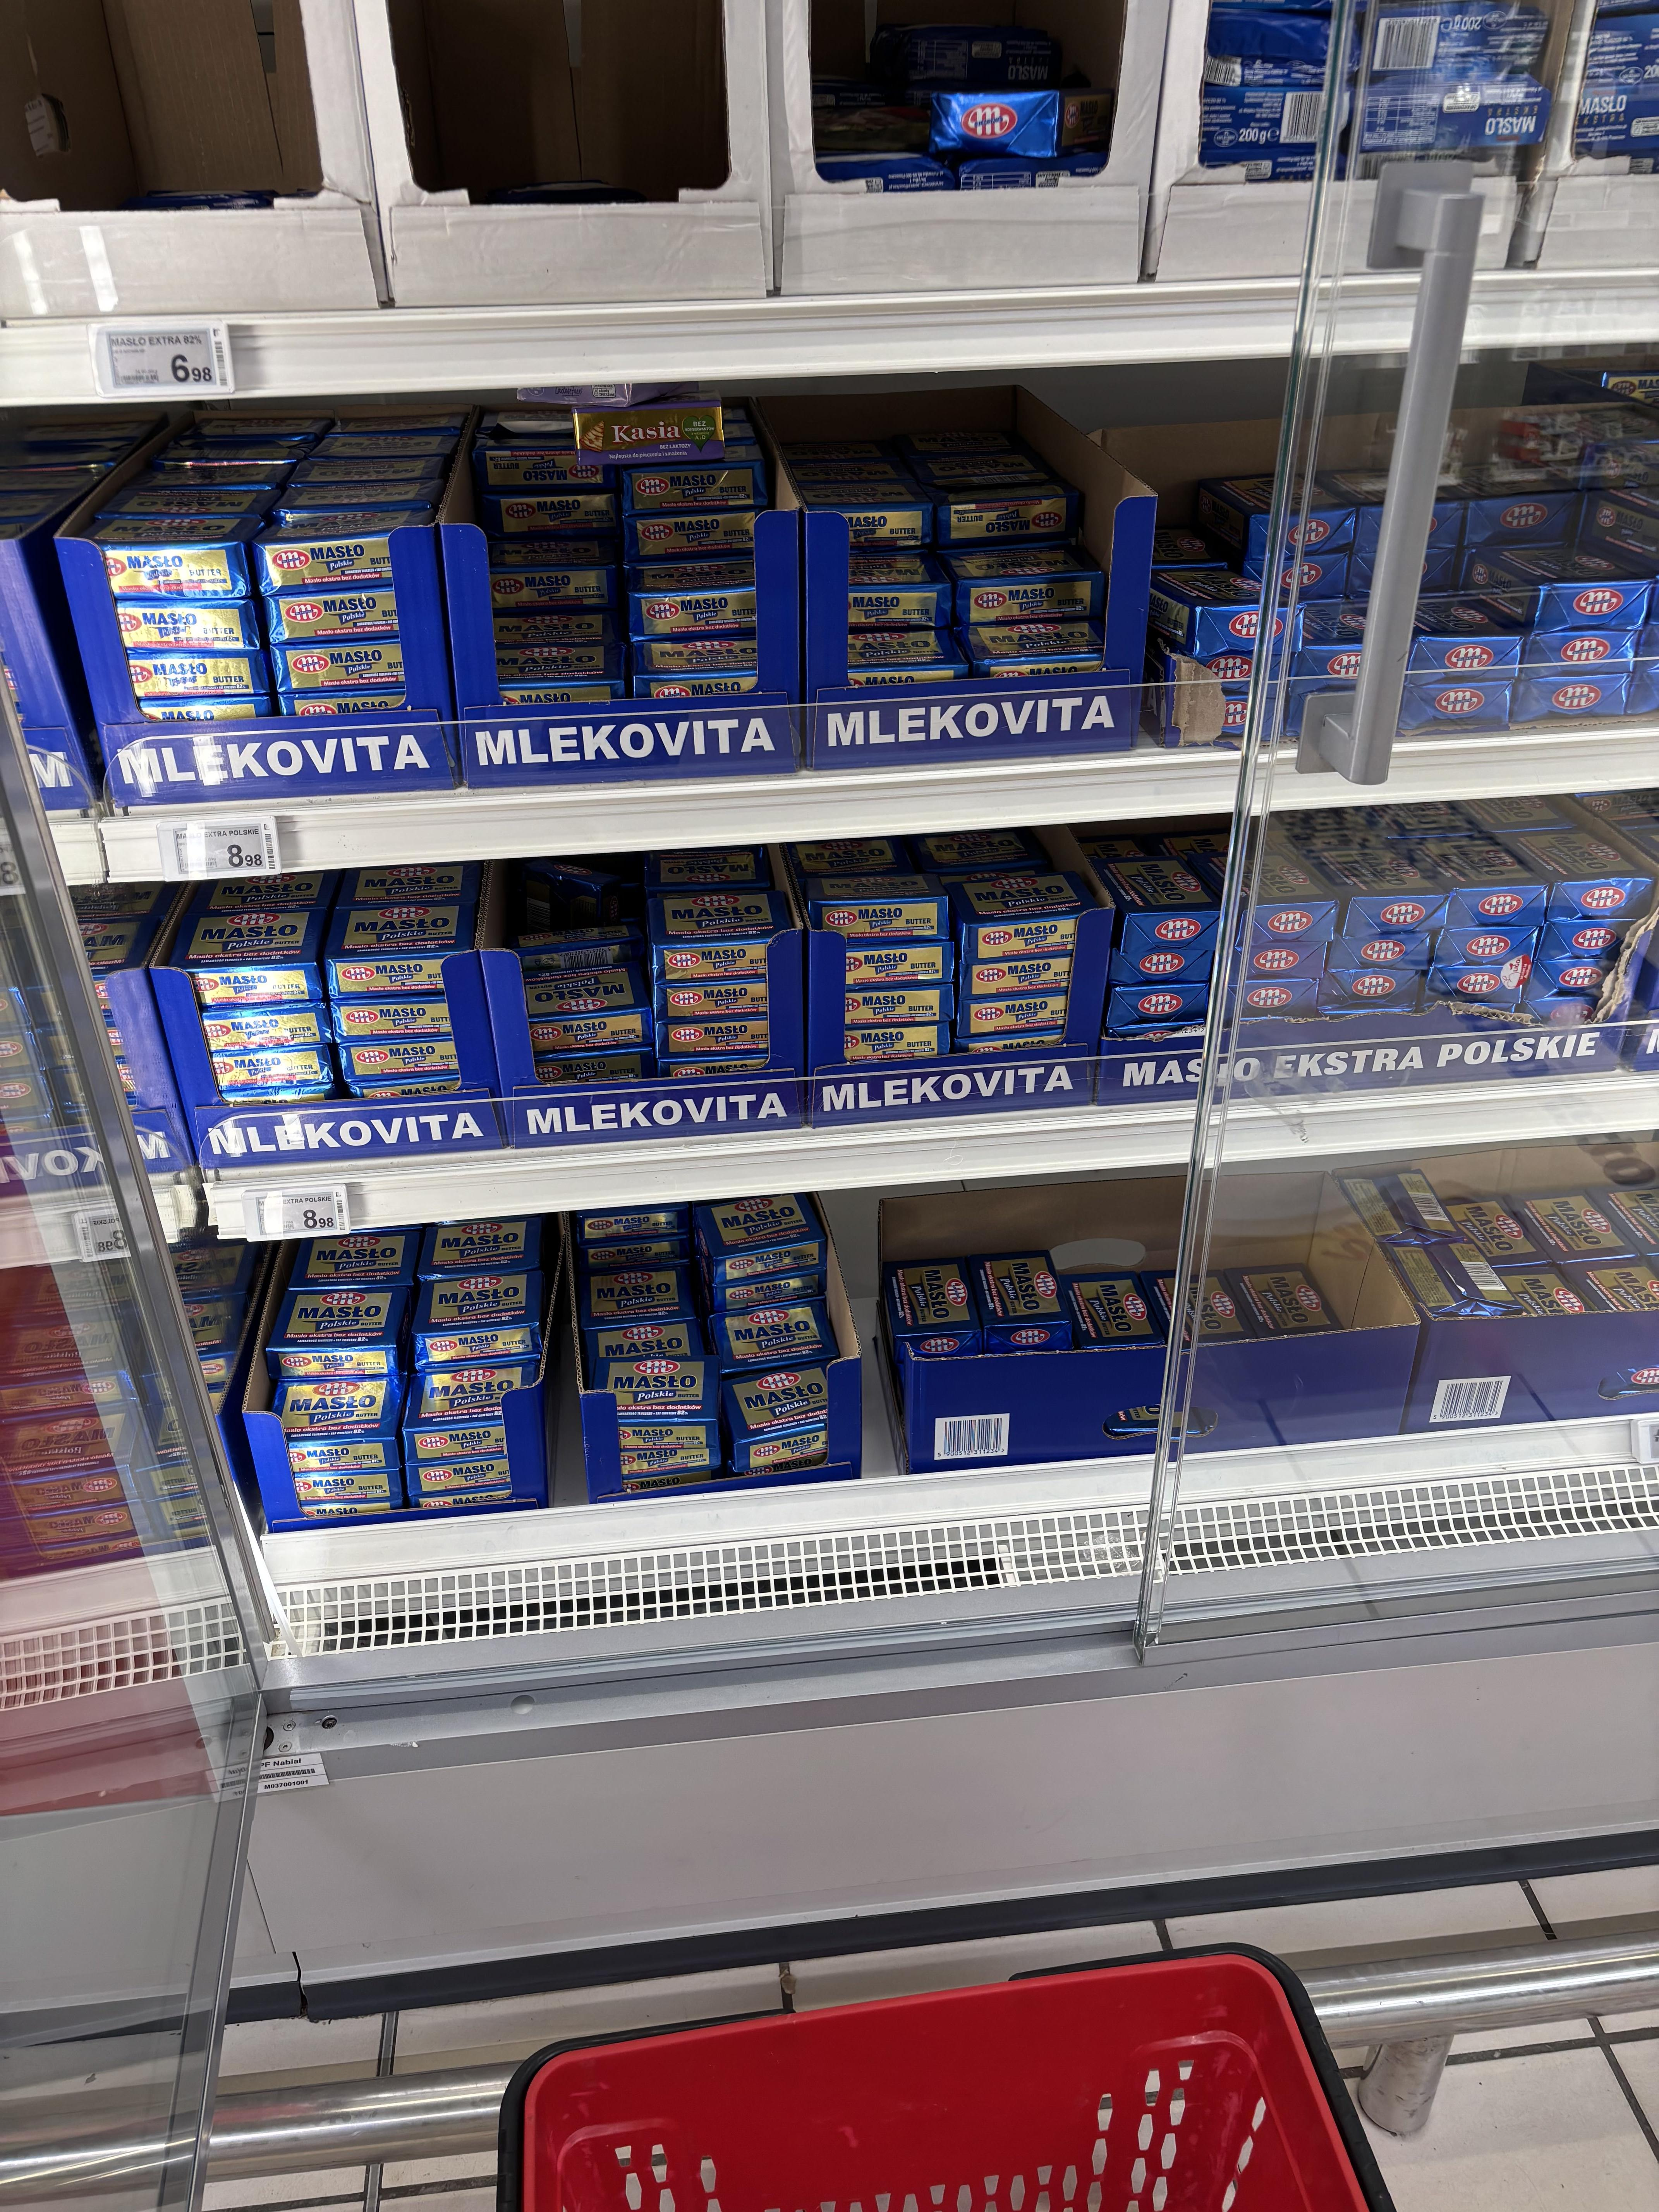Butter: (256, 503, 453, 599), (106, 512, 274, 601), (256, 1366, 422, 1440), (641, 899, 795, 974), (962, 888, 1105, 968), (324, 909, 453, 981), (178, 923, 317, 986)
